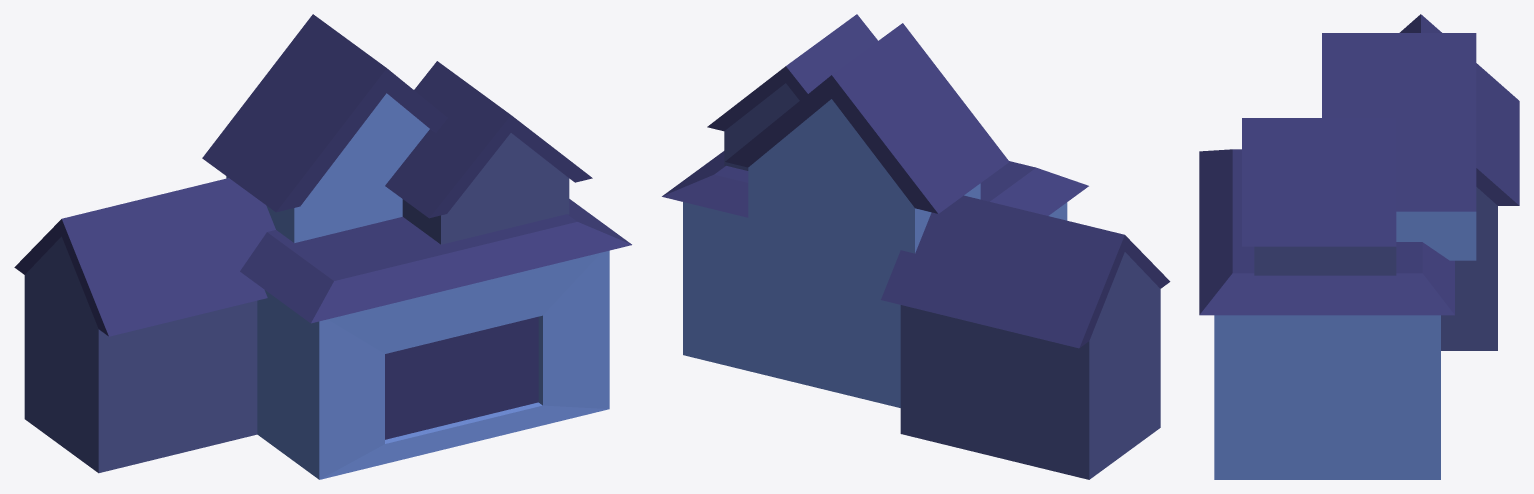
Rendered from House2.fbx.
The picture shows the model from 3 angles, left to right: view 1: azimuth 30°, elevation 25°; view 2: azimuth 150°, elevation 25°; view 3: azimuth 270°, elevation 25°; orthographic projection. The views are drawn at different scales.
Visible parts, largest first — view 1: Cube.032; view 2: Cube.032; view 3: Cube.032.
Boxes of the visible parts, x1,y1,x2,y2 form: Cube.032: (14, 14, 631, 479); Cube.032: (662, 14, 1170, 479); Cube.032: (1199, 14, 1519, 479).
Size of the model in its own units: 1445 by 1025 by 827.
